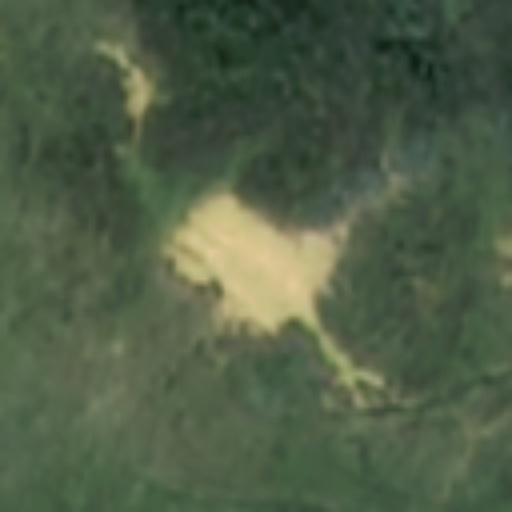landslide: (171, 189, 348, 335), (97, 40, 156, 140)
